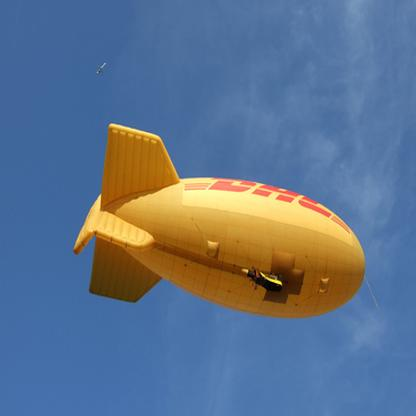Airship: (79, 118, 370, 338)
